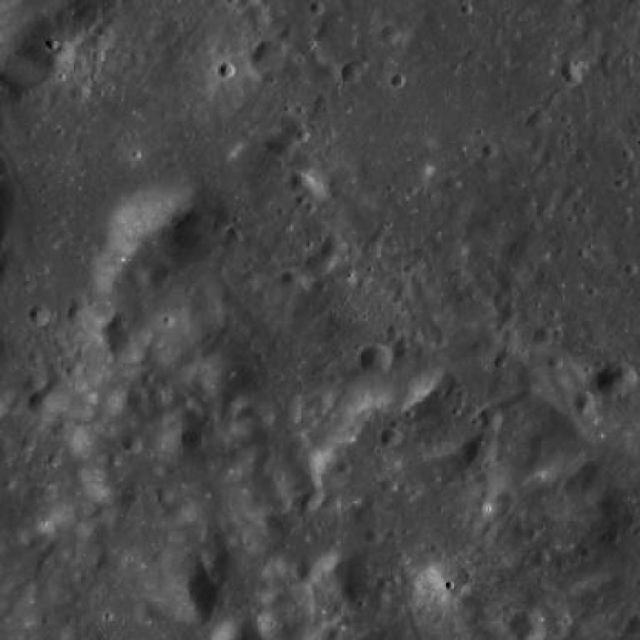crater: (598, 364, 636, 402), (250, 40, 288, 76), (463, 431, 499, 467), (358, 342, 392, 376), (290, 172, 324, 206), (276, 268, 309, 300), (269, 129, 297, 157), (30, 390, 56, 416), (243, 2, 269, 28), (304, 251, 330, 277), (66, 298, 92, 324), (166, 498, 192, 524), (476, 406, 501, 432), (320, 234, 346, 258), (302, 486, 326, 508), (560, 63, 582, 85), (574, 390, 596, 412), (380, 428, 402, 450), (29, 304, 51, 326), (526, 108, 548, 130), (534, 327, 554, 347), (121, 434, 141, 454), (339, 63, 359, 82), (218, 60, 237, 80), (380, 23, 398, 42), (70, 84, 88, 102), (40, 486, 58, 504), (378, 476, 396, 493), (364, 528, 382, 544), (530, 550, 548, 566), (156, 487, 172, 504), (66, 363, 82, 379), (0, 436, 9, 453)
